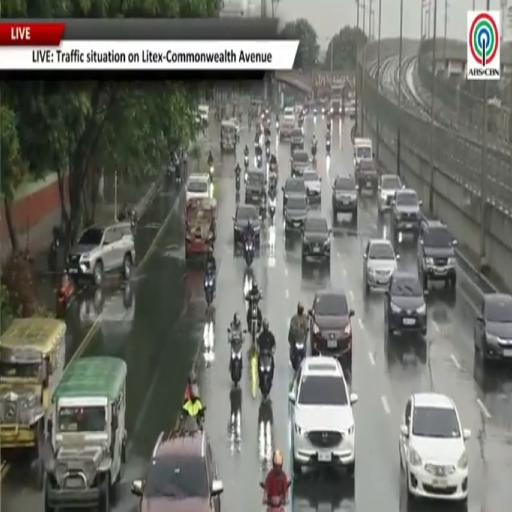car: (43, 357, 127, 511), (399, 393, 470, 508), (289, 357, 357, 476), (132, 430, 223, 511), (67, 222, 135, 285), (309, 291, 354, 369), (418, 220, 456, 290), (385, 271, 426, 335), (474, 294, 511, 361), (363, 239, 399, 292), (391, 189, 423, 243), (302, 215, 331, 263), (233, 204, 260, 247), (332, 176, 357, 221), (378, 174, 402, 213), (285, 196, 307, 232), (282, 179, 306, 212), (355, 160, 378, 194), (186, 174, 210, 202), (245, 170, 264, 205), (303, 169, 321, 204), (280, 107, 296, 140), (291, 150, 310, 177), (290, 127, 303, 153), (198, 105, 209, 125), (345, 100, 355, 119), (230, 118, 240, 137)
jeepney: (45, 357, 127, 511), (0, 318, 65, 455), (185, 199, 216, 259), (221, 121, 237, 152)
motorcycle: (228, 329, 246, 386), (48, 227, 65, 273), (56, 275, 74, 317), (259, 351, 273, 398), (179, 407, 206, 430), (290, 334, 306, 371), (249, 300, 258, 346), (204, 274, 215, 307), (264, 496, 287, 511), (244, 240, 254, 266), (268, 197, 276, 222), (129, 210, 137, 234), (259, 196, 266, 221), (175, 165, 181, 184), (235, 170, 240, 192), (209, 165, 214, 181), (255, 139, 260, 154), (257, 153, 262, 168), (312, 143, 317, 157), (326, 139, 330, 155), (244, 155, 248, 170), (266, 146, 270, 159), (245, 171, 248, 185), (276, 121, 280, 131), (313, 108, 317, 116)
